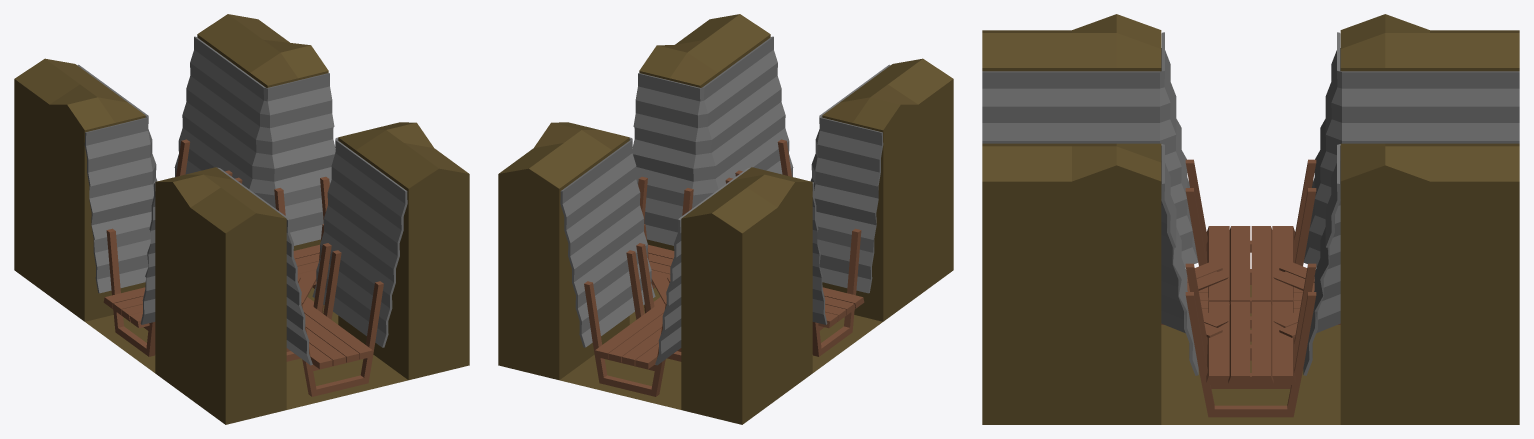
Rendered from Trench Intersection.fbx.
The picture shows the model from 3 angles, left to right: view 1: azimuth 30°, elevation 25°; view 2: azimuth 150°, elevation 25°; view 3: azimuth 270°, elevation 25°; orthographic projection. The views are drawn at different scales.
Visible parts, largest first — view 1: Trench Dirt Intersection, Trench Intersection; view 2: Trench Dirt Intersection, Trench Intersection; view 3: Trench Dirt Intersection, Trench Intersection.
Part boxes in pixels (x1,y1,x2,y2): Trench Dirt Intersection: (14, 14, 469, 424); Trench Intersection: (77, 36, 407, 396); Trench Dirt Intersection: (498, 14, 953, 424); Trench Intersection: (560, 36, 890, 396); Trench Dirt Intersection: (982, 14, 1519, 424); Trench Intersection: (982, 32, 1519, 417).
Size of the model in its own units: 2000 by 1600 by 3000.
